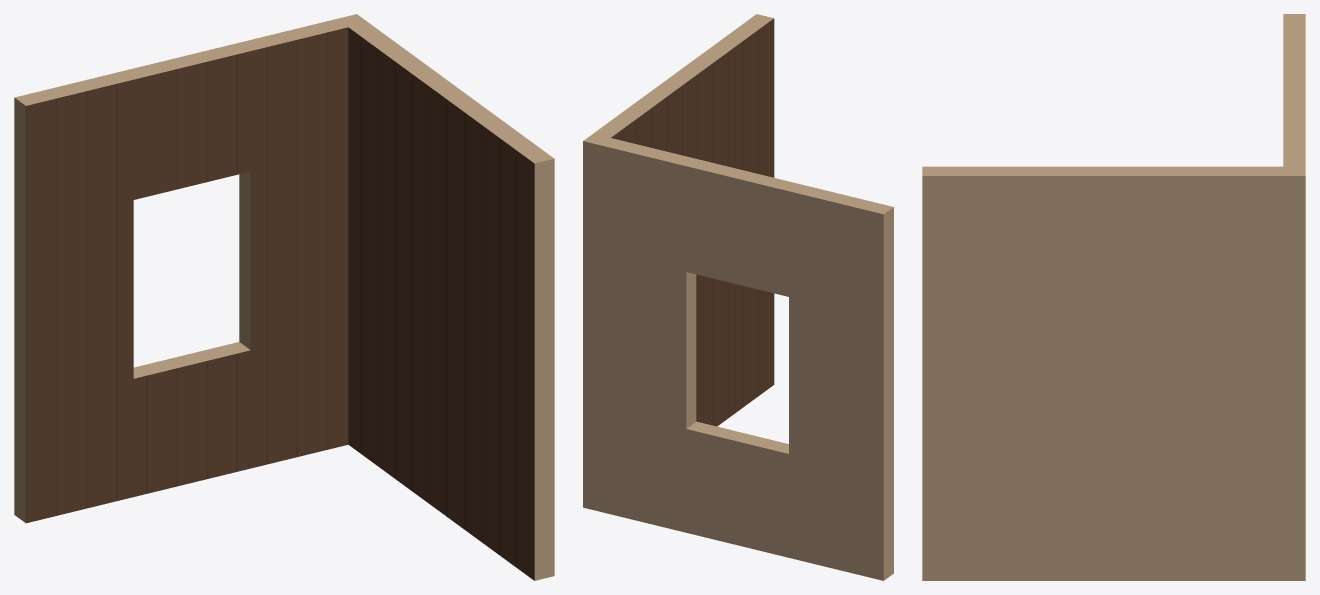
The model's file is Wall3_C9_07.fbx.
3 renders of one model, left to right at view 1: azimuth 30°, elevation 25°; view 2: azimuth 150°, elevation 25°; view 3: azimuth 270°, elevation 25°, orthographic. The views are drawn at different scales.
Parts seen in each view (by area): view 1: Wall3_C9_07; view 2: Wall3_C9_07; view 3: Wall3_C9_07.
Part boxes in pixels (left/top/right/bottom): Wall3_C9_07: left=14, top=14, right=554, bottom=580; Wall3_C9_07: left=583, top=14, right=893, bottom=580; Wall3_C9_07: left=922, top=14, right=1305, bottom=580.
Bounding box in the file's own units: 258 × 300 × 258.
